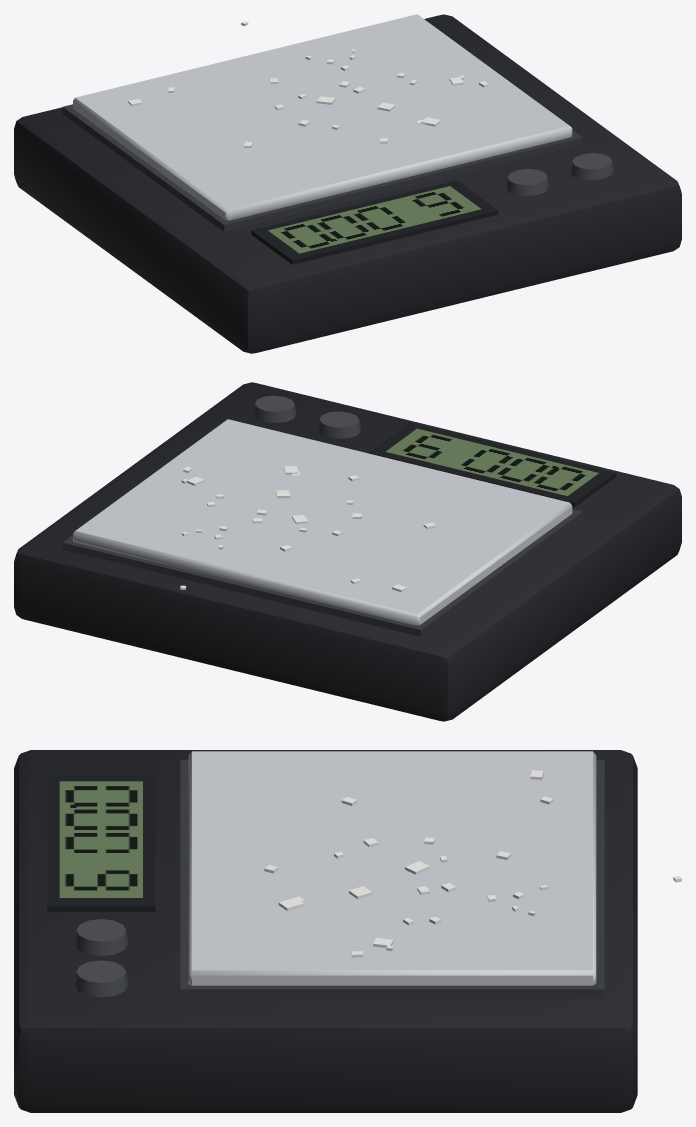
The model's file is digital_scale.glb.
The picture shows the model from 3 angles, top to bottom: view 1: azimuth 30°, elevation 25°; view 2: azimuth 150°, elevation 25°; view 3: azimuth 270°, elevation 25°; orthographic projection. The views are drawn at different scales.
Parts seen in each view (by area): view 1: digital_scale; view 2: digital_scale; view 3: digital_scale.
Part boxes in pixels (x1,y1,x2,y2): digital_scale: (14, 14, 681, 353); digital_scale: (14, 382, 681, 721); digital_scale: (14, 750, 681, 1112).
Bounding box in the file's own units: 0.15 × 0.03 × 0.15.
7 materials, 1 textured.
